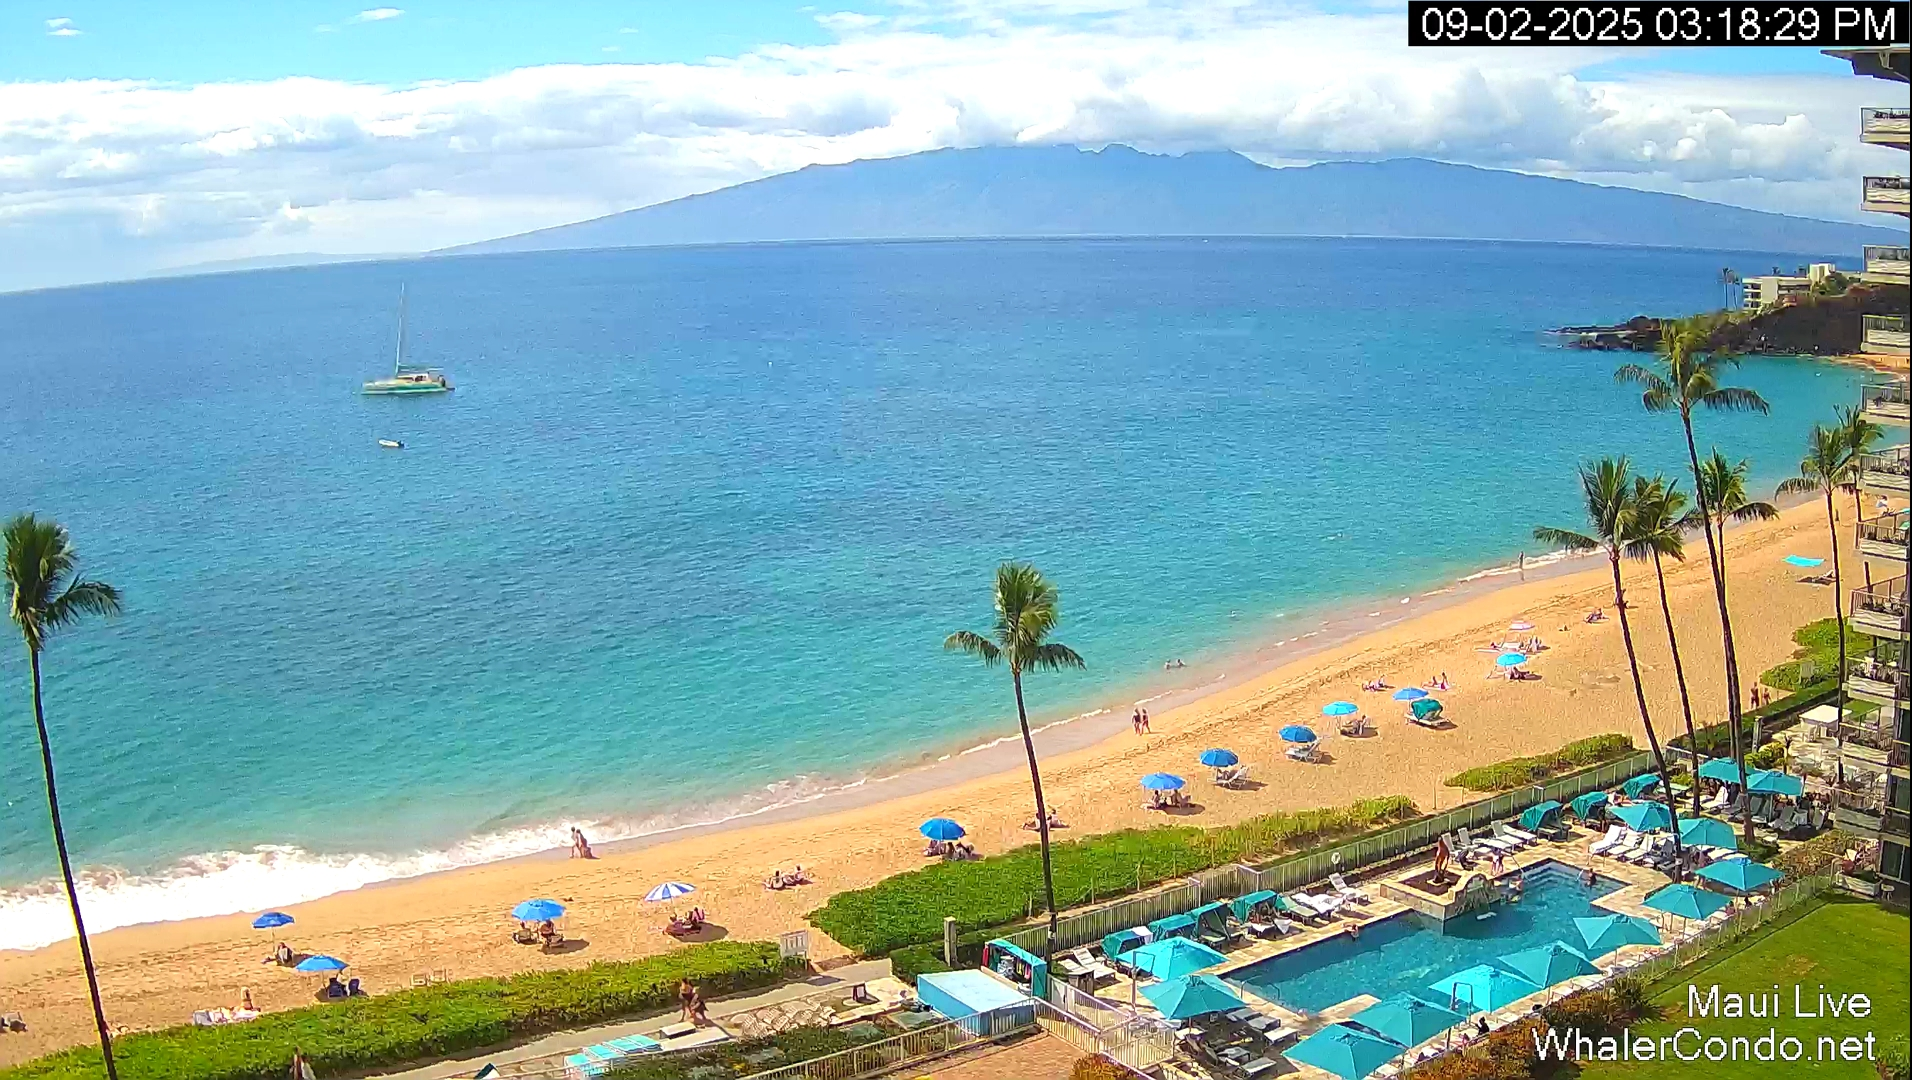boat: (361, 281, 456, 395), (1022, 810, 1071, 832)
person: (678, 978, 694, 1023), (689, 993, 709, 1026), (577, 832, 600, 859), (327, 975, 348, 998), (538, 920, 556, 944), (276, 942, 294, 966), (569, 827, 582, 858), (1132, 708, 1142, 737), (1141, 707, 1151, 735), (1750, 682, 1760, 710), (1476, 1016, 1490, 1035), (692, 906, 705, 923), (1763, 688, 1772, 706), (1153, 790, 1161, 808), (1176, 658, 1185, 668)
